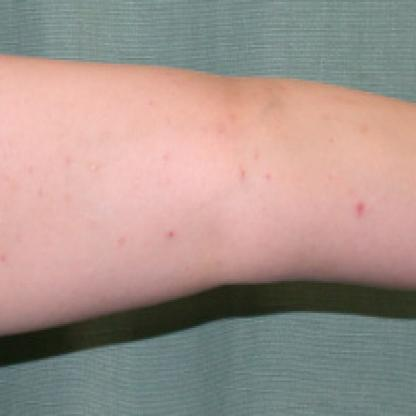Eczema: (227, 156, 276, 193), (164, 220, 196, 256), (345, 191, 373, 228)
